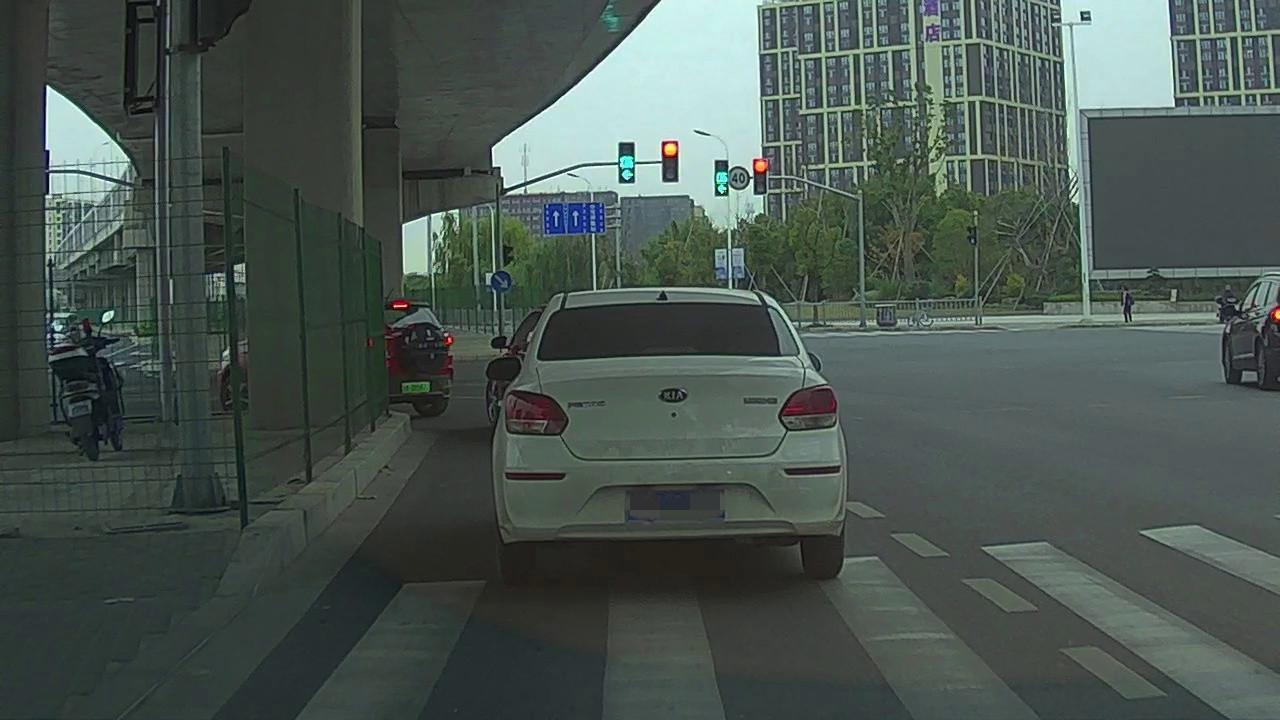traffic_light: (617, 142, 634, 181), (661, 142, 677, 180), (715, 161, 729, 193), (754, 160, 765, 193)
